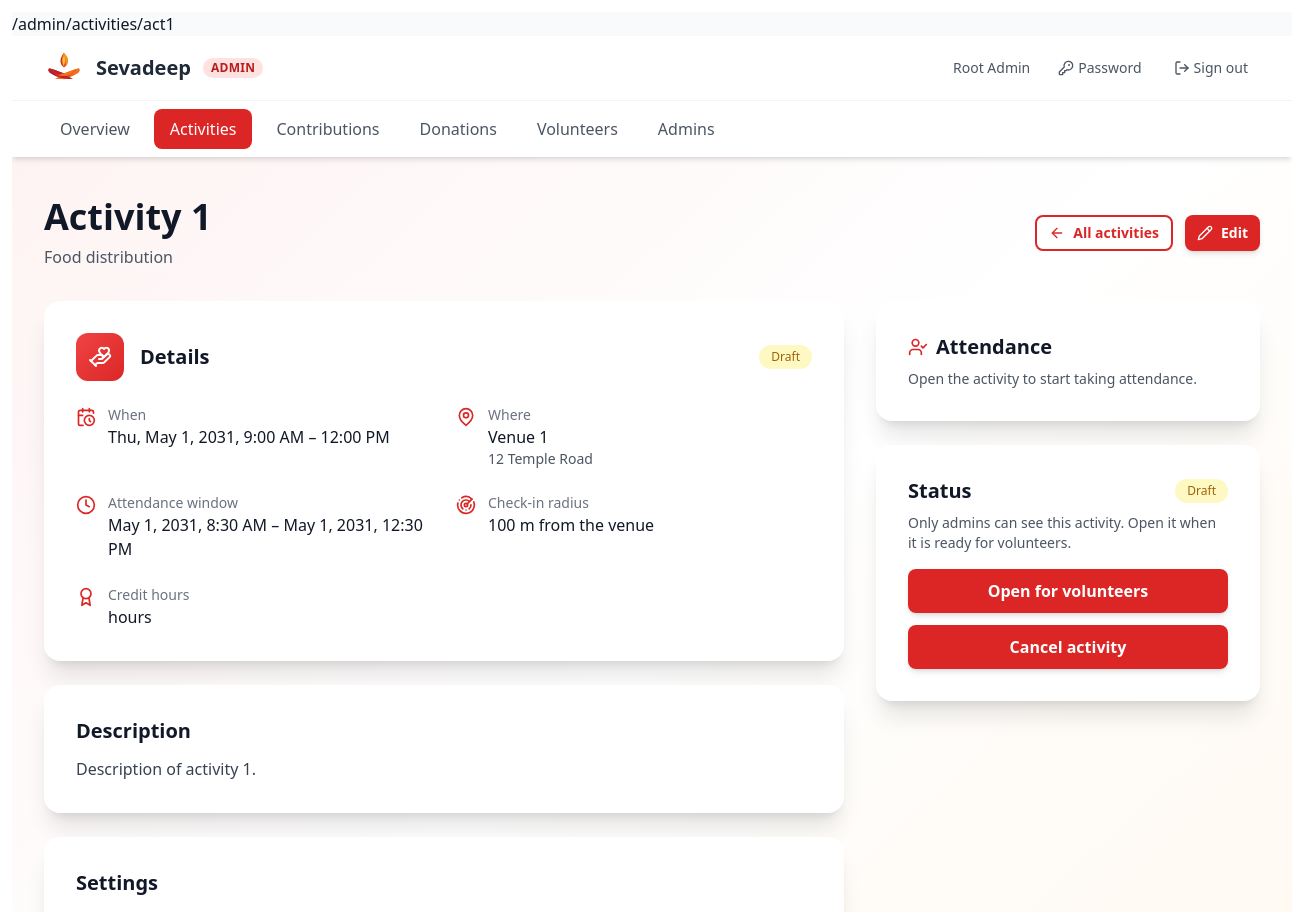
admin Activity detail › shows the server message when a change is refused, and refreshes the state
Click the button "Open for volunteers" at (1068, 591), box [908,569,1228,613]
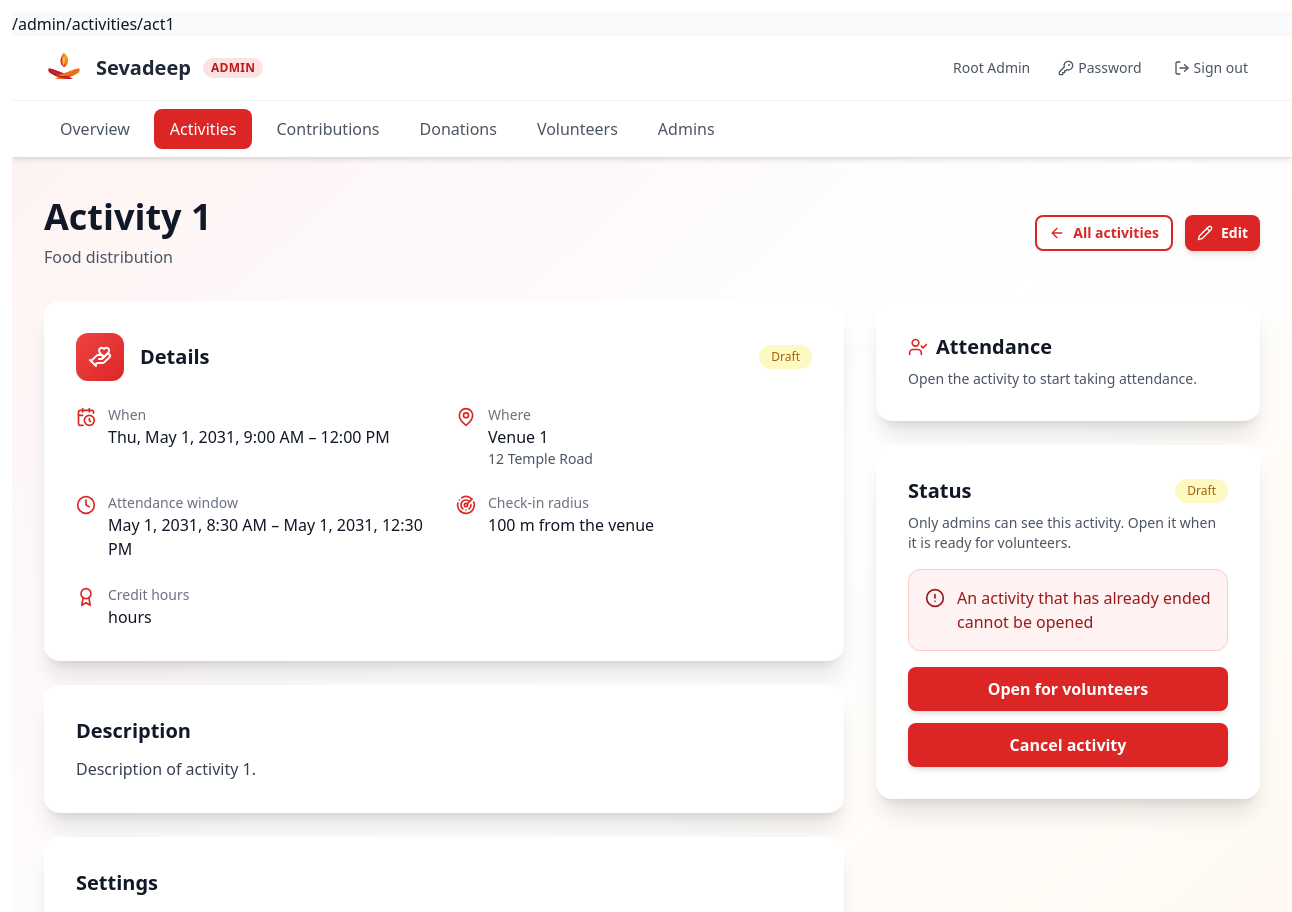
Result: the text "An activity that has already ended cannot be opened" is shown at [957,586,1211,634]
